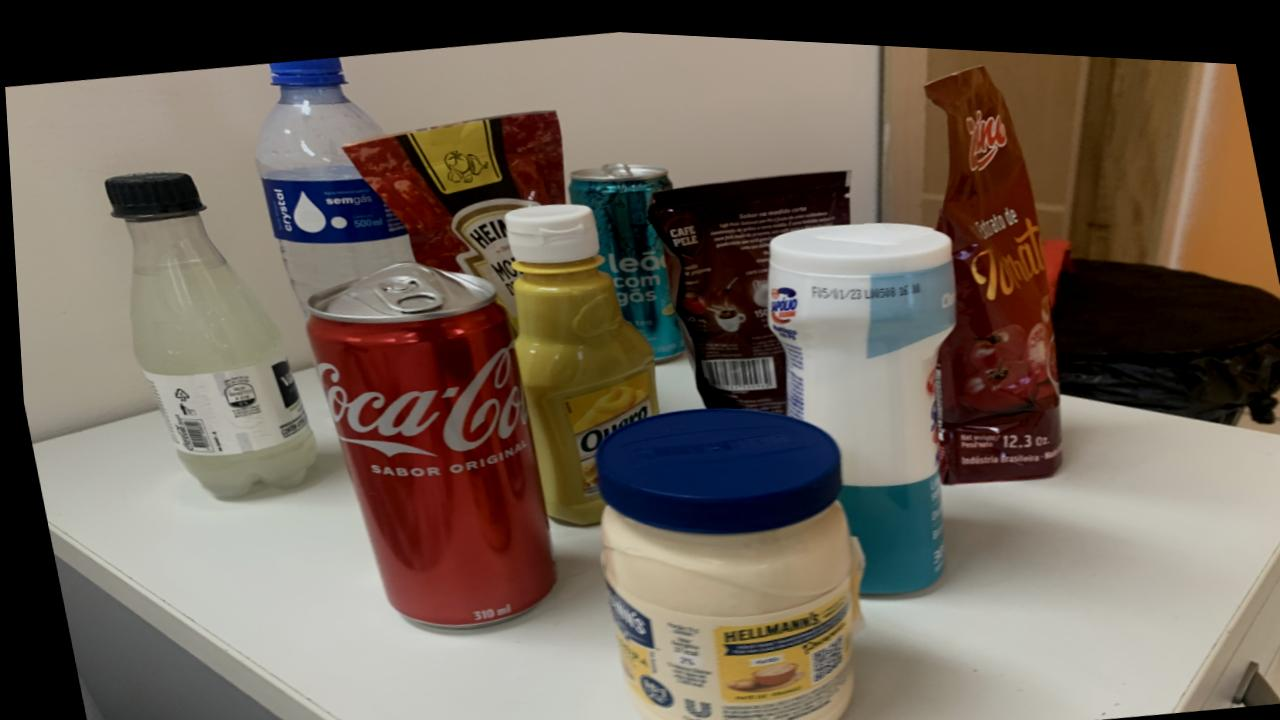Cleaner-Cleanup_Items: (764, 212, 953, 584)
Coffee-Pantry_Items: (645, 161, 848, 405)
Coke-Drinks: (302, 257, 549, 623)
Mayonnaise-Pantry_Items: (591, 400, 853, 720)
Mustard-Pantry_Items: (502, 197, 653, 518)
Soda-Drinks: (105, 170, 310, 496)
Tea-Drinks: (566, 156, 681, 354)
Tomato_Sauce-Pantry_Items: (925, 55, 1057, 473), (341, 104, 563, 310)
Water_Bottle-Drinks: (253, 53, 409, 310)
